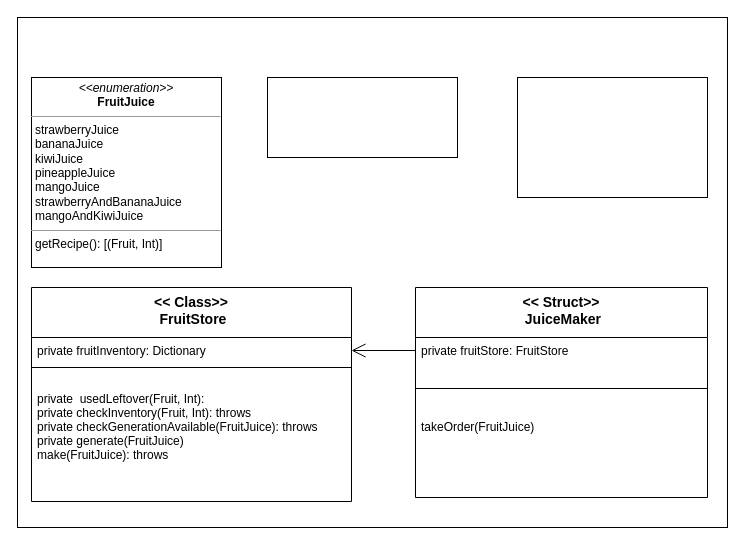
Image size: 745x545. Some labels were removed from this diagram. The shapes that lost their labels are listed below. From the top down, each one's centre as x and y in pixels, then its label:
At [362,117]: "<<enumeration>> JuiceMakerError outOfStock invalidOder".
At [612,137]: "<<enumeration>> Fruit strawberry banana kiwi pineapple mango".
